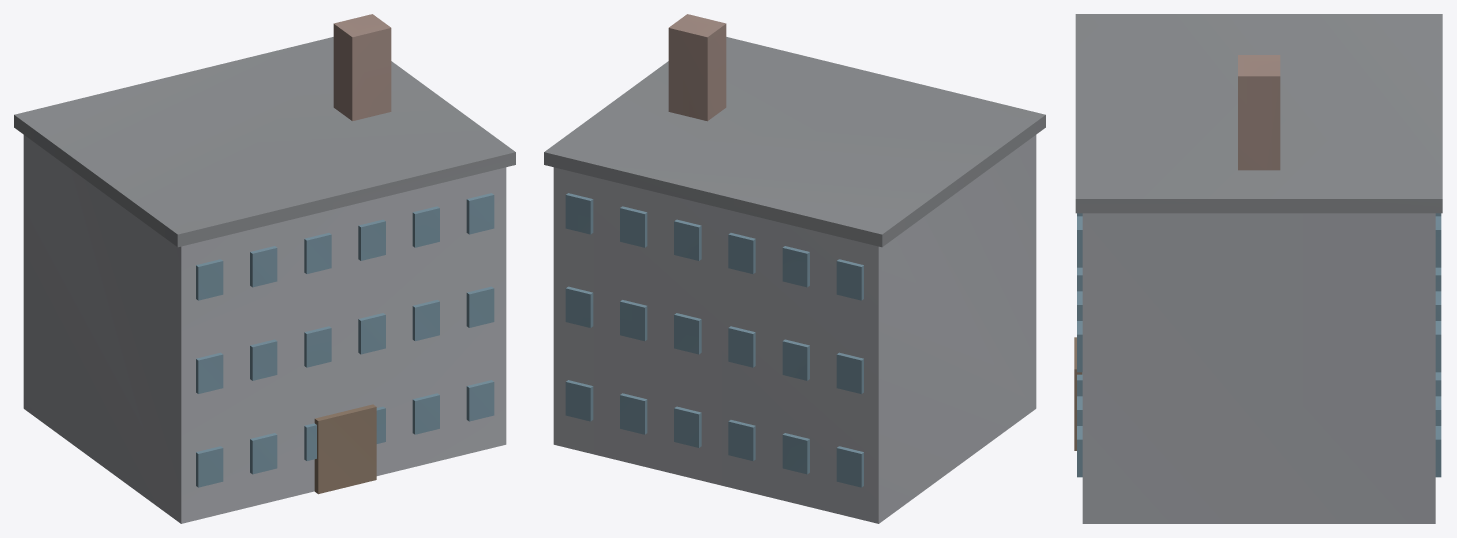
Rendered from factory-02.glb.
3 views of the same model, side by side, from view 1: azimuth 30°, elevation 25°; view 2: azimuth 150°, elevation 25°; view 3: azimuth 270°, elevation 25° (orthographic). The views are drawn at different scales.
Visible parts, largest first — view 1: world; view 2: world; view 3: world.
Boxes of the visible parts, left/top/right/bottom form: world: left=14, top=14, right=515, bottom=523; world: left=544, top=14, right=1045, bottom=523; world: left=1074, top=14, right=1442, bottom=523.
Bounding box in the file's own units: 1.94 × 2.07 × 1.63.
